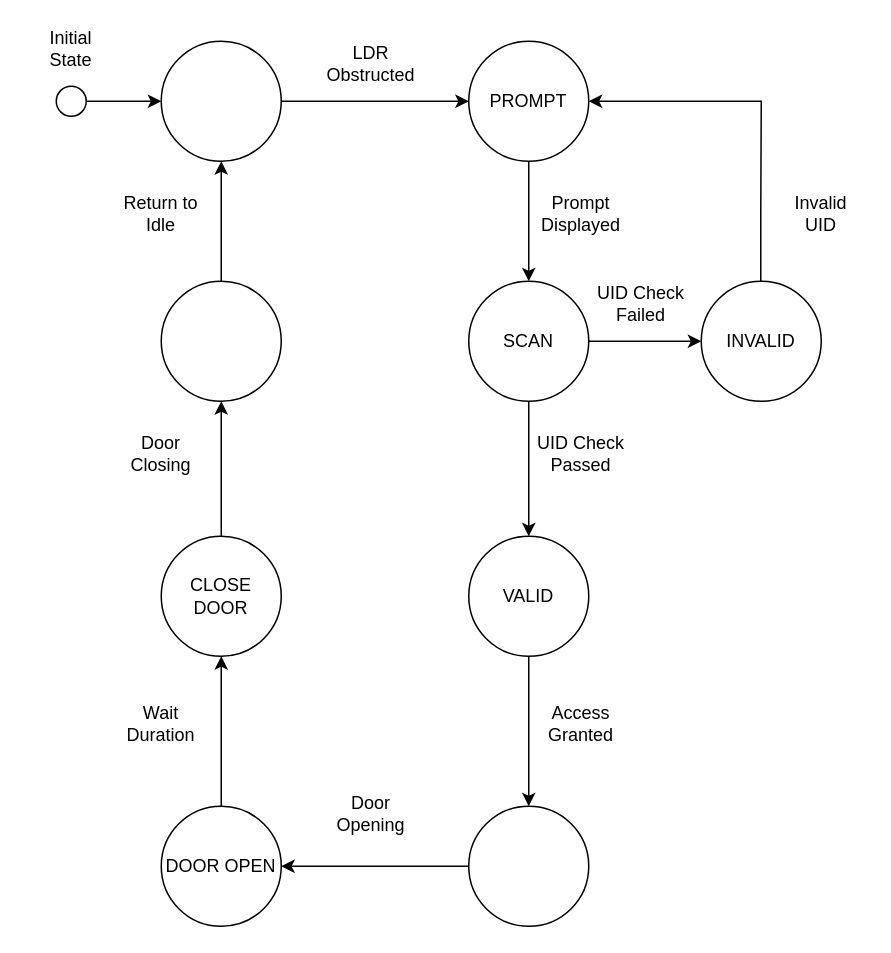
Image size: 891x953. Some labels were removed from this diagram. Each missing label, with the centre of its shape:
DOOR CLOSED: (220,340)
IDLE: (220,100)
OPEN DOOR: (528,865)
